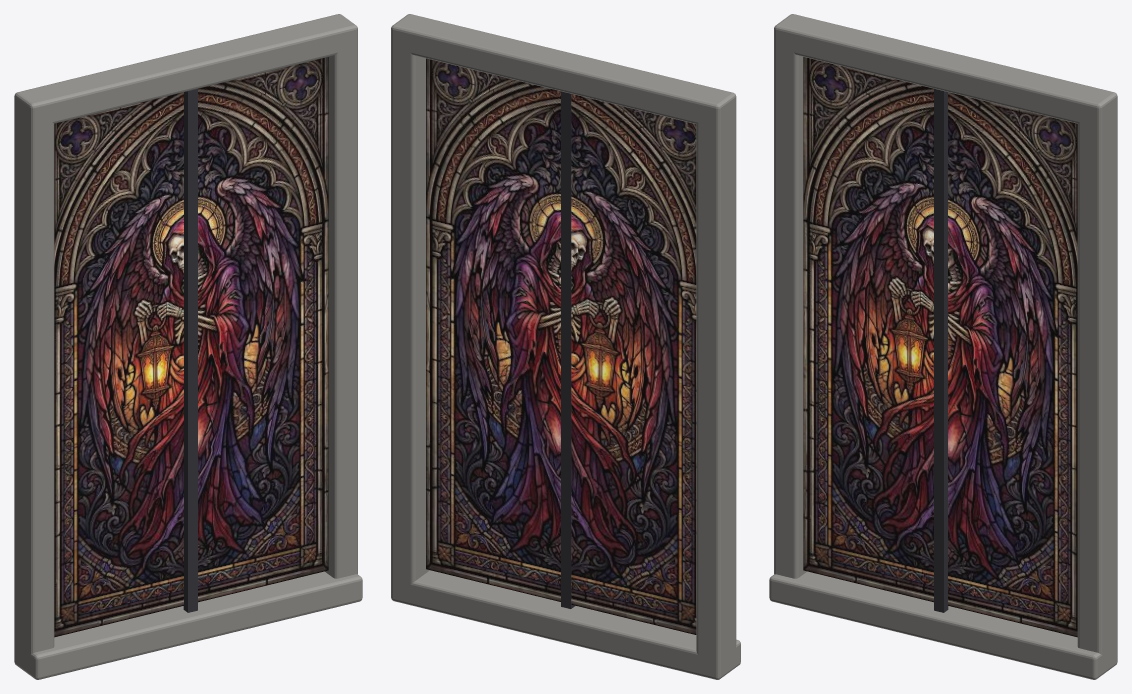
The model's file is art_glass_skeleton_angel.glb.
The picture shows the model from 3 angles, left to right: view 1: azimuth 30°, elevation 25°; view 2: azimuth 150°, elevation 25°; view 3: azimuth 330°, elevation 25°; orthographic projection.
Visible parts, largest first — view 1: GD_art_glass_skeleton_angel__m0, GD_art_glass_skeleton_angel__m1, GD_art_glass_skeleton_angel__m2; view 2: GD_art_glass_skeleton_angel__m0, GD_art_glass_skeleton_angel__m1, GD_art_glass_skeleton_angel__m2; view 3: GD_art_glass_skeleton_angel__m0, GD_art_glass_skeleton_angel__m1, GD_art_glass_skeleton_angel__m2.
Boxes of the visible parts, left/top/right/bottom form: GD_art_glass_skeleton_angel__m0: left=54, top=57, right=328, bottom=637; GD_art_glass_skeleton_angel__m1: left=14, top=14, right=362, bottom=679; GD_art_glass_skeleton_angel__m2: left=183, top=88, right=197, bottom=612; GD_art_glass_skeleton_angel__m0: left=426, top=58, right=696, bottom=634; GD_art_glass_skeleton_angel__m1: left=391, top=14, right=740, bottom=679; GD_art_glass_skeleton_angel__m2: left=561, top=91, right=575, bottom=608; GD_art_glass_skeleton_angel__m0: left=803, top=57, right=1077, bottom=637; GD_art_glass_skeleton_angel__m1: left=769, top=14, right=1117, bottom=679; GD_art_glass_skeleton_angel__m2: left=934, top=88, right=948, bottom=612.
Size of the model in its own units: 0.82 by 1.37 by 0.1.
Materials: 3 (1 with a texture image).
